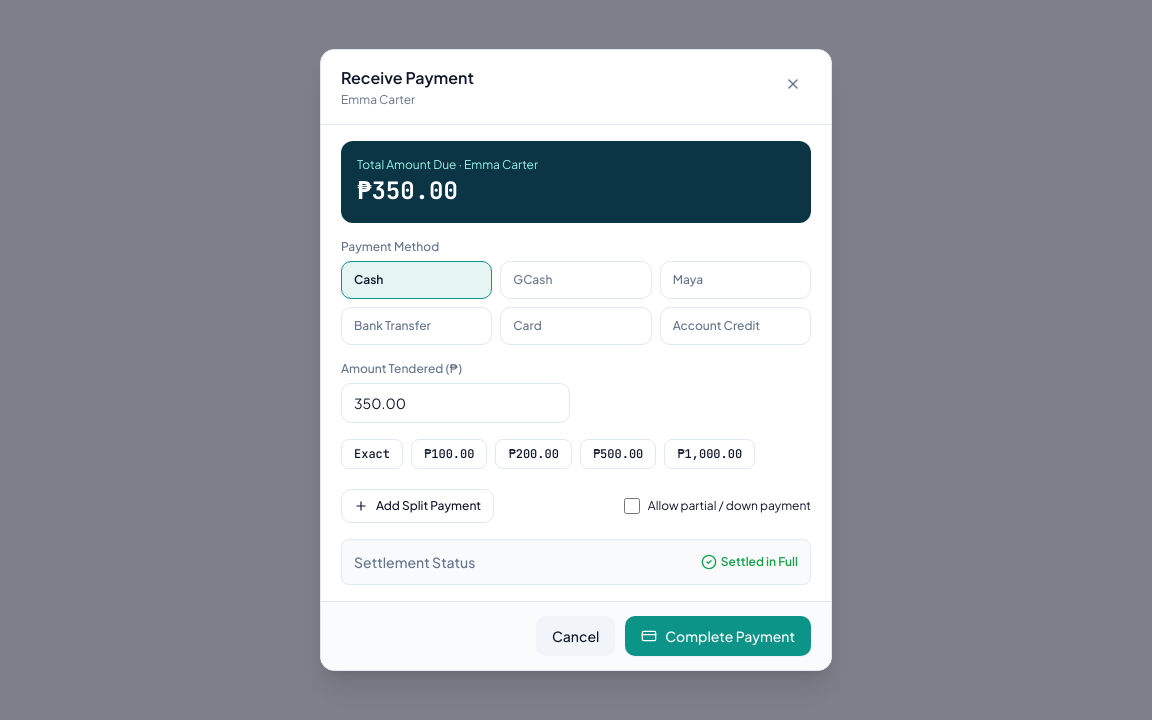
Test: CheckoutModal › computes change due for cash tender and submits payment payload
This screenshot has width=1152, height=720.
Later steps or results of the test are not shown.
Replace the text in the number field labelled "Amount Tendered (₱)" with "500" at (456, 403), box [341, 383, 570, 423]
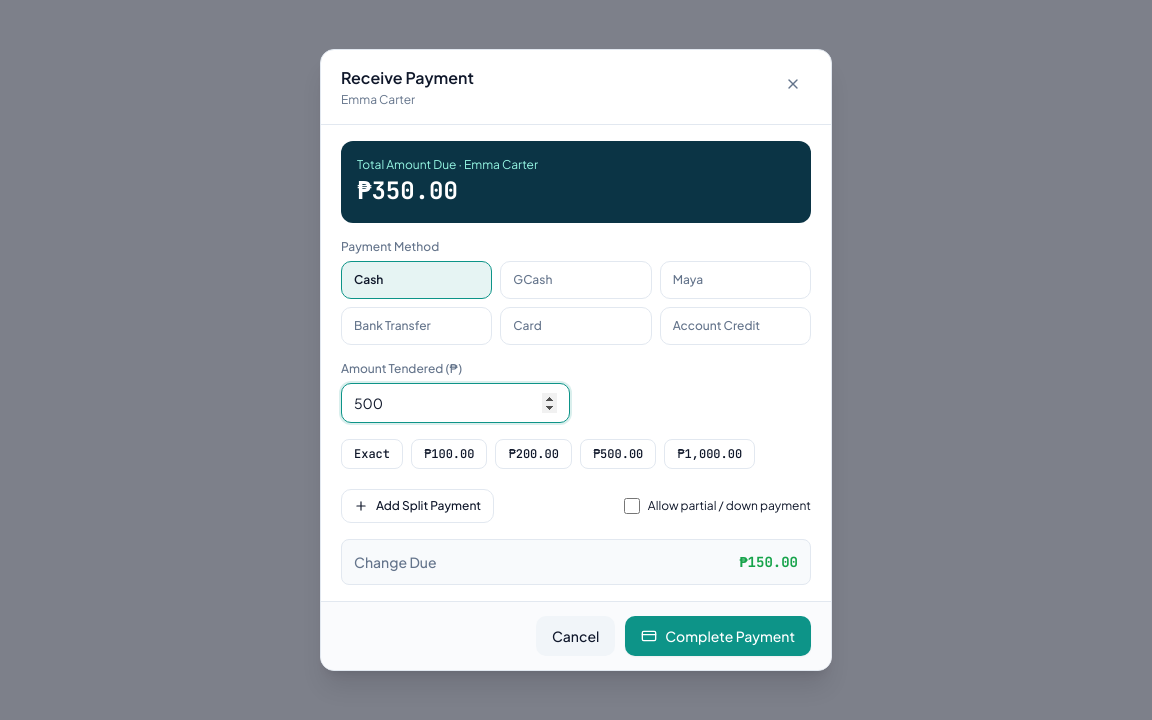
Result: the text "Change Due" is shown at [354, 552, 436, 572]
Result: the text "₱150.00" is shown at [739, 552, 798, 572]
